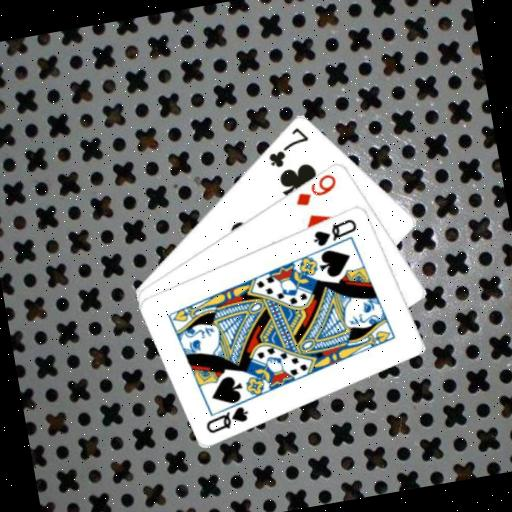7C: (260, 122, 314, 171)
9D: (289, 169, 341, 209)
QS: (307, 214, 361, 249), (200, 401, 252, 436)
